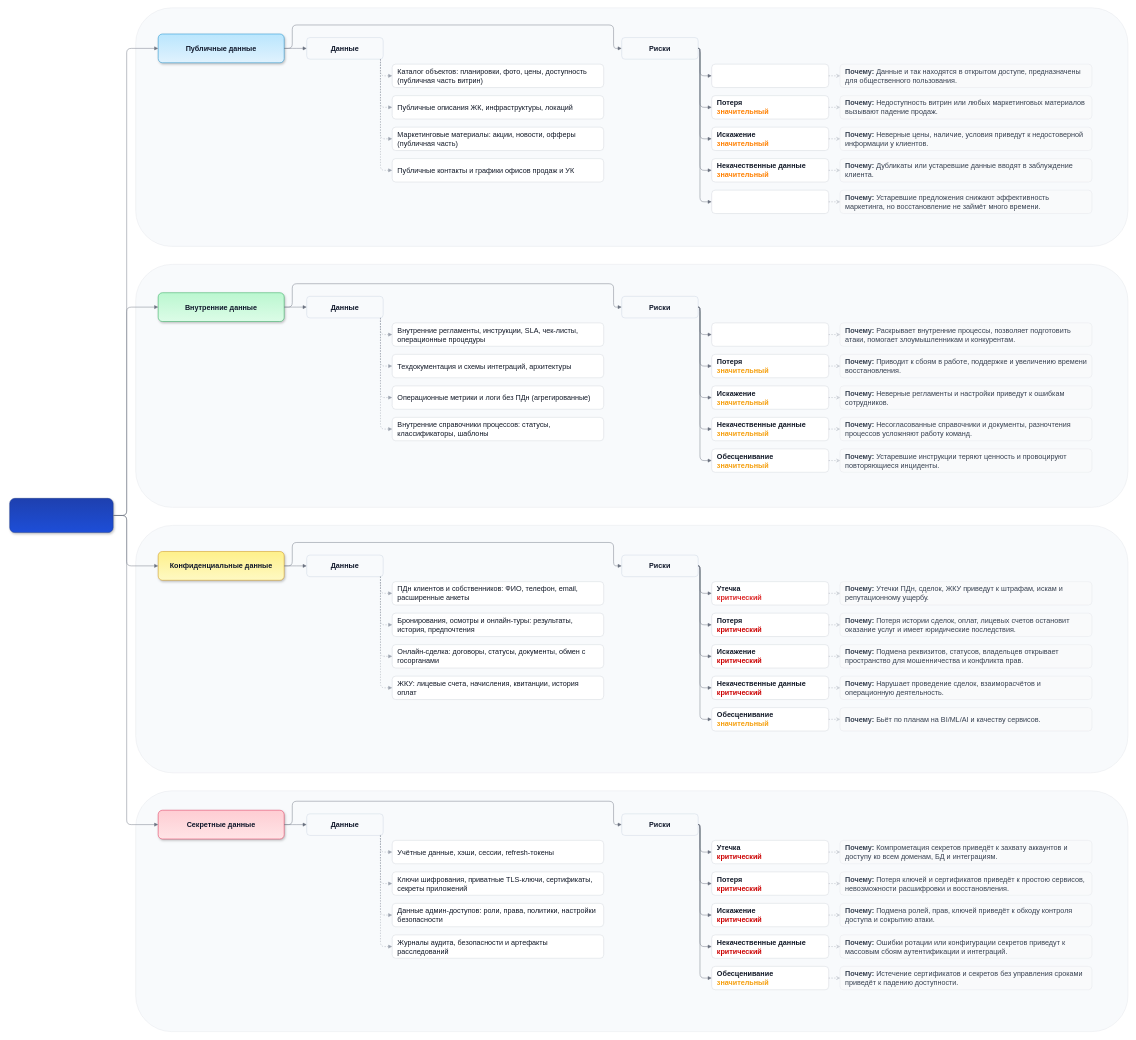
This 1136x1040 diagram has some shape labels left out. Each missing label, with the centre of its shape:
"Безопасность данных" belongs at pixel 61 516.
"Обесценивание незначительный" belongs at pixel 770 202.
"Утечка значительный" belongs at pixel 770 334.
"Утечка незначительный" belongs at pixel 770 76.
